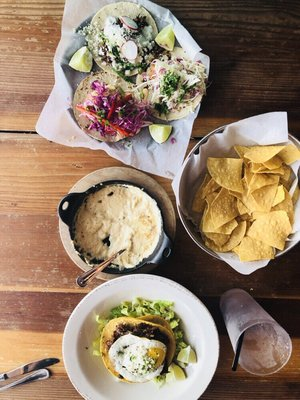salad: (218, 288, 293, 377), (0, 358, 60, 382)
sandwich: (0, 358, 60, 382)
sushi: (174, 111, 300, 278), (62, 274, 220, 400), (57, 167, 177, 283)
